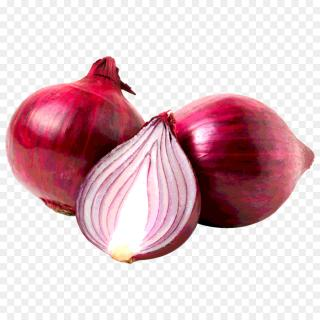Bawang Merah: (6, 57, 146, 217), (75, 110, 203, 265), (171, 94, 316, 230)
